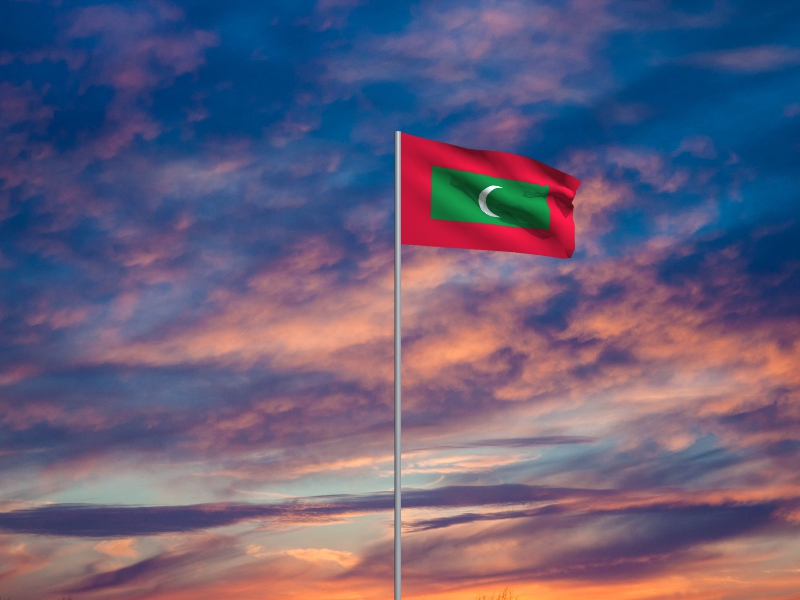mv: (402, 133, 583, 261)
